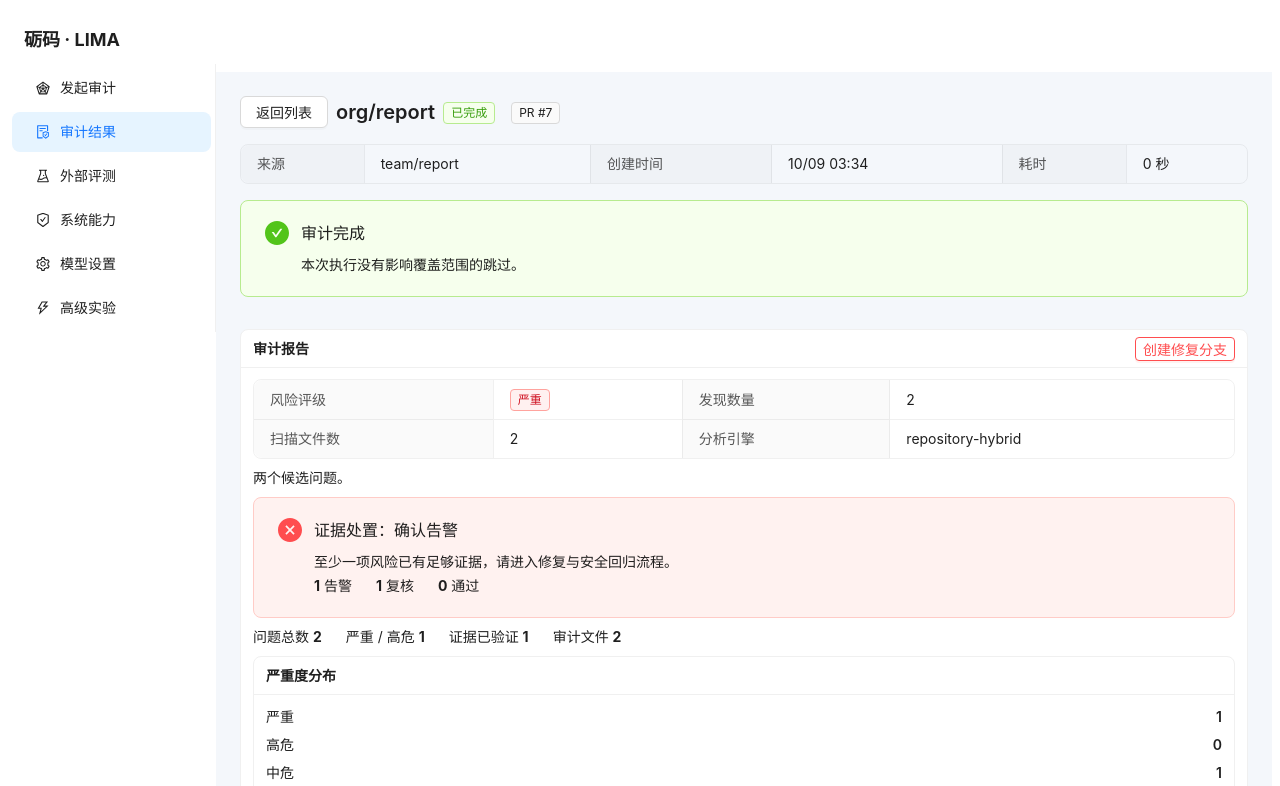
Test case: task detail report surface › gates the fix branch button to PR tasks and requires confirmation
The image size is (1280, 786).
Click the button "创建修复分支". click: (1185,349)
box: 1135,337 -> 1235,361
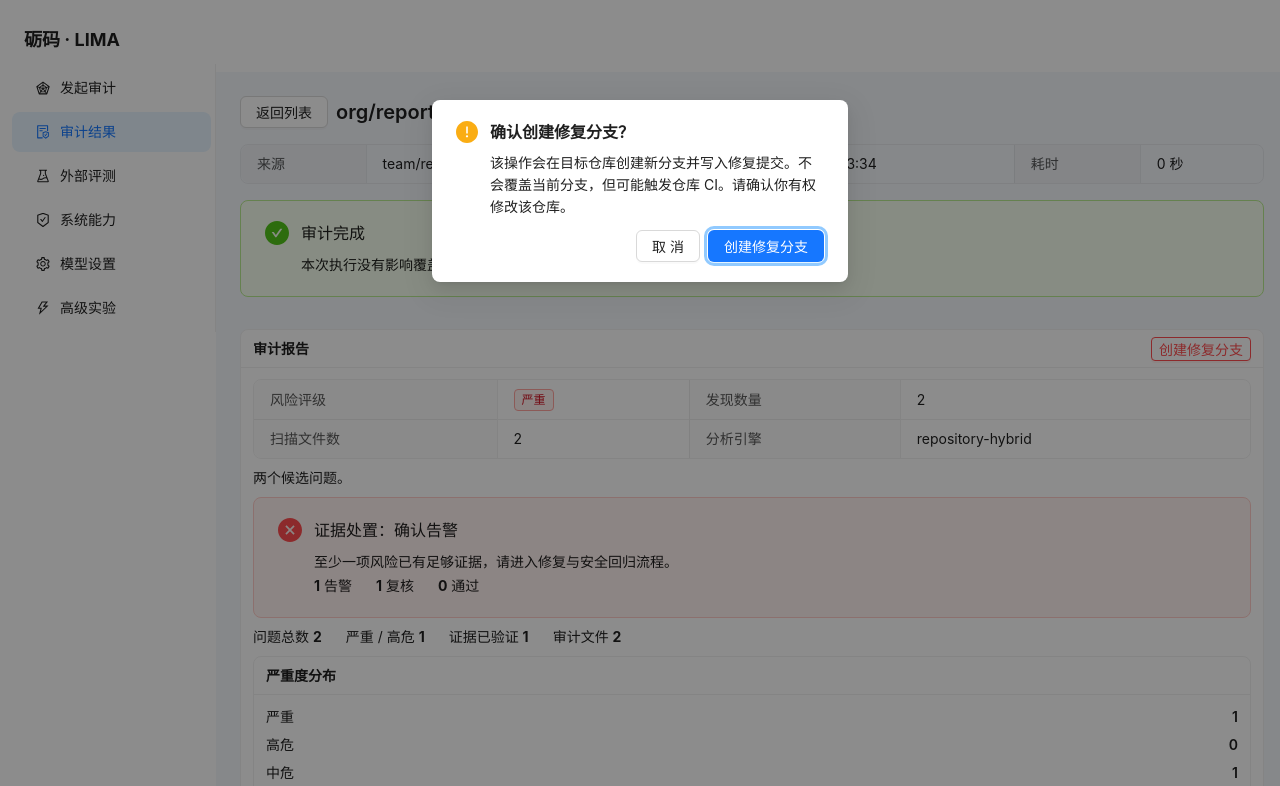
Click the button "创建修复分支". click: (766,246)
box: 708,230 -> 824,262
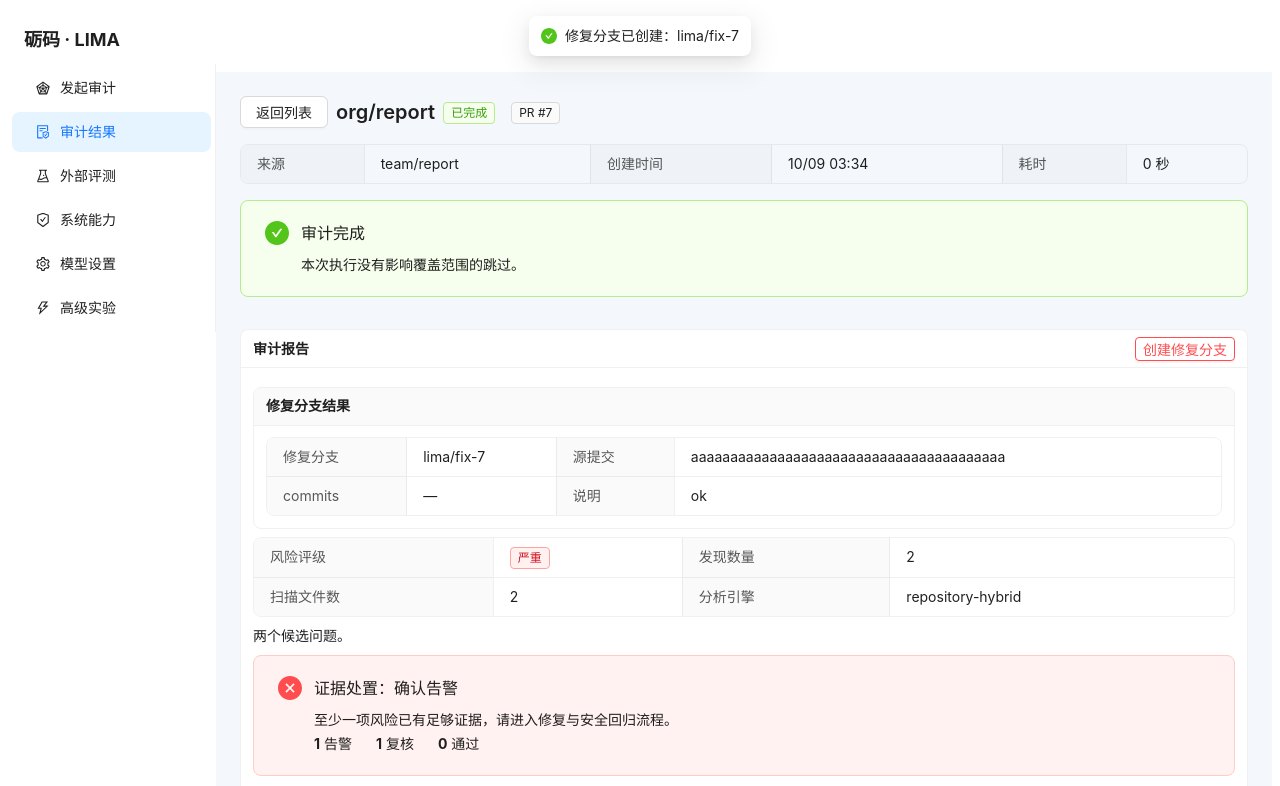
expect the text "修复分支结果" is shown: met, box 266,397 -> 350,414
expect the text "lima/fix-7" is shown: met, box 423,448 -> 485,465
